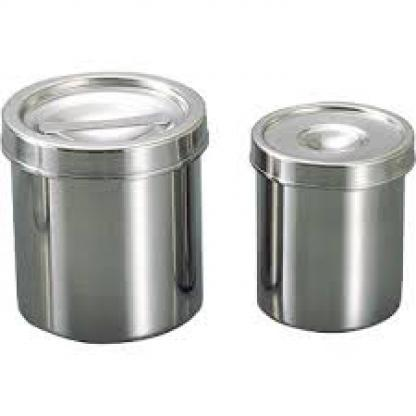METAL: (0, 70, 207, 342), (250, 102, 414, 331)
